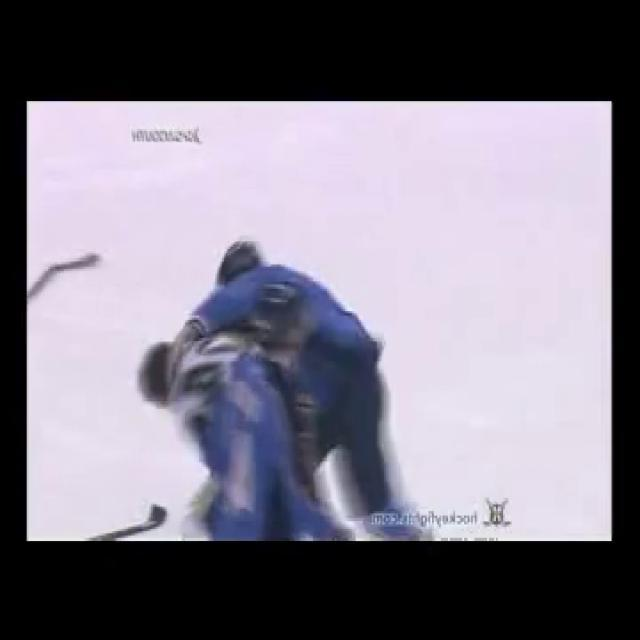violence: (138, 241, 406, 538)
